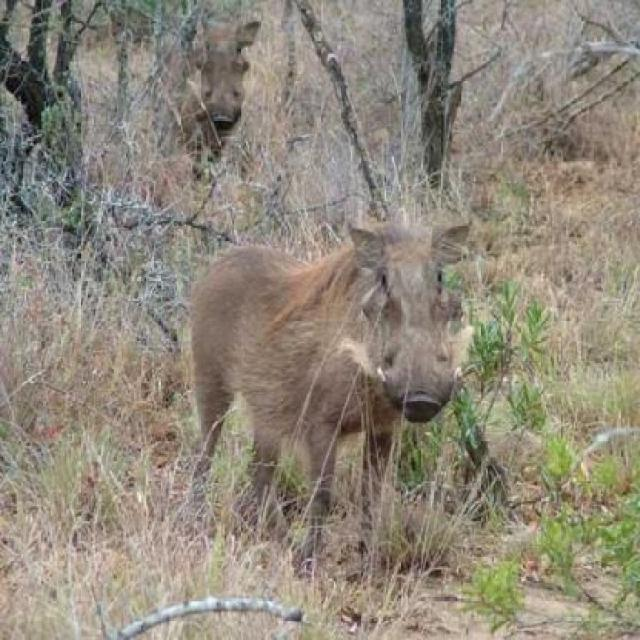pig: (194, 183, 502, 506)
